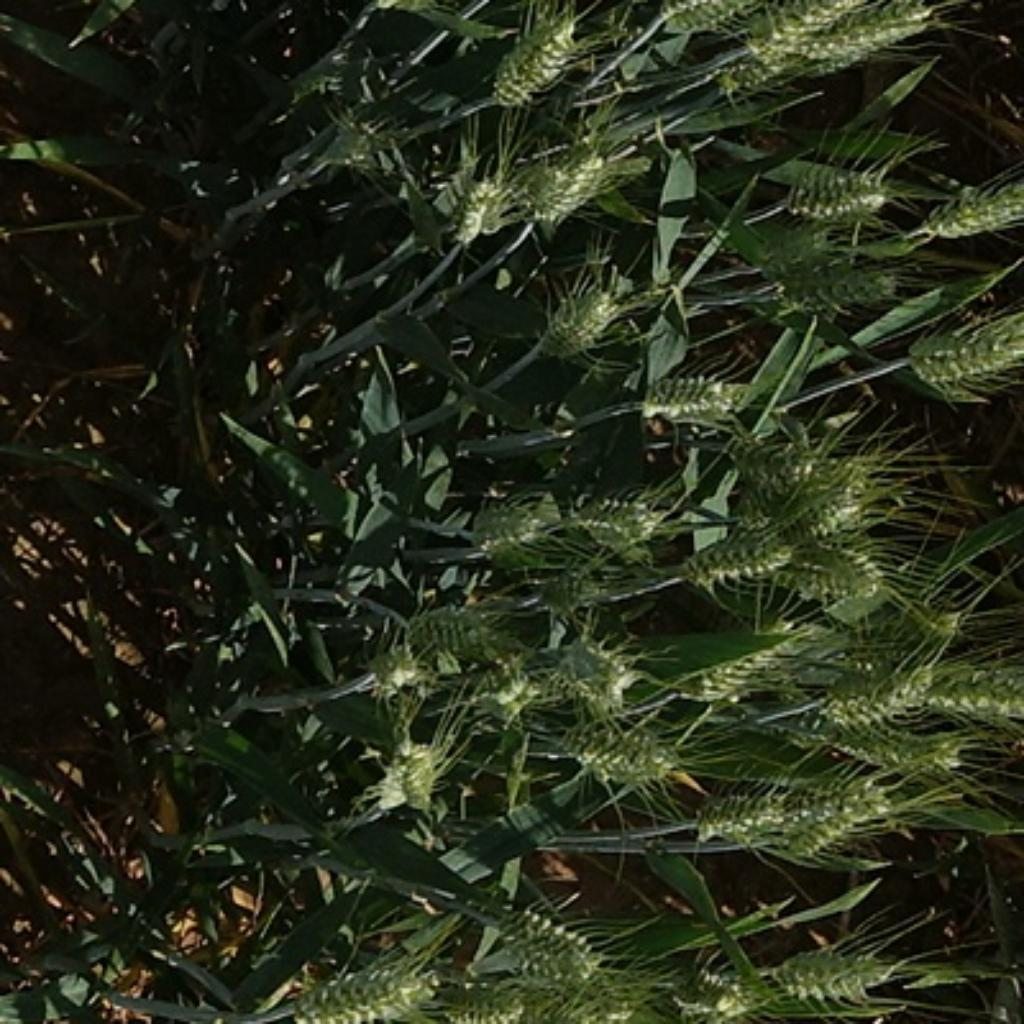0-0: (686, 770, 837, 849), (683, 632, 826, 714), (760, 929, 901, 1011), (806, 660, 947, 742), (778, 0, 942, 69), (898, 307, 1024, 394), (483, 0, 588, 104), (668, 524, 793, 606), (762, 529, 896, 604), (773, 778, 901, 855), (906, 647, 1024, 727), (721, 476, 875, 537), (560, 711, 683, 785), (832, 711, 965, 778), (535, 273, 632, 363), (497, 902, 605, 982), (775, 153, 893, 225), (264, 976, 441, 1024), (399, 593, 519, 663), (532, 627, 634, 709), (716, 432, 844, 494), (634, 360, 752, 427), (563, 483, 665, 558), (314, 102, 404, 184), (519, 143, 609, 225), (737, 0, 864, 58), (665, 954, 770, 1024), (924, 171, 1024, 243), (847, 586, 965, 647), (765, 263, 903, 314), (366, 732, 450, 814), (538, 962, 645, 1023), (468, 488, 552, 563), (473, 665, 550, 732), (448, 163, 509, 245), (655, 0, 788, 35), (755, 222, 834, 271), (365, 644, 423, 700), (445, 988, 522, 1024)
